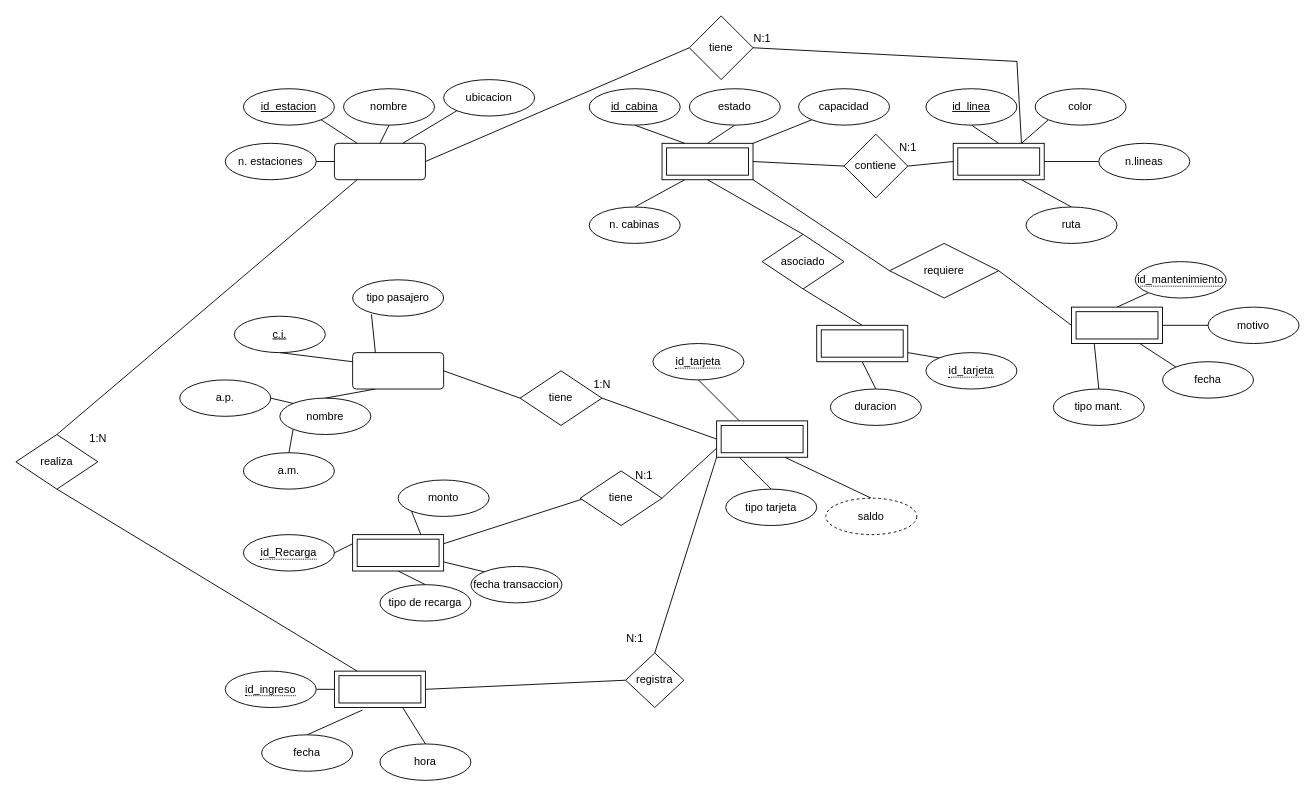
Some shapes in this 1315 by 796 pixel diagram are drawn without their labels. Here are the shapes that lost their labels. From the top down, the centre of each, then its label:
At pixel 379 161: "Estacion".
At pixel 707 161: "cabina".
At pixel 998 161: "linea".
At pixel 862 343: "viaje".
At pixel 1117 325: "mantenimiento".
At pixel 398 370: "pasajero".
At pixel 762 438: "tarjeta".
At pixel 398 552: "recarga".
At pixel 379 689: "ingreso".
